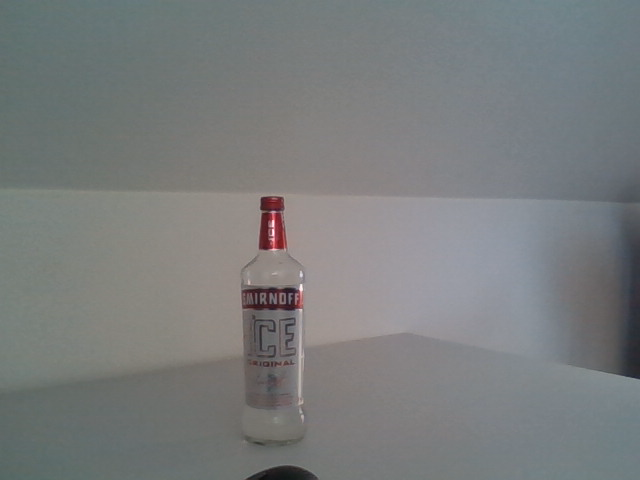bottle: (239, 194, 307, 448)
